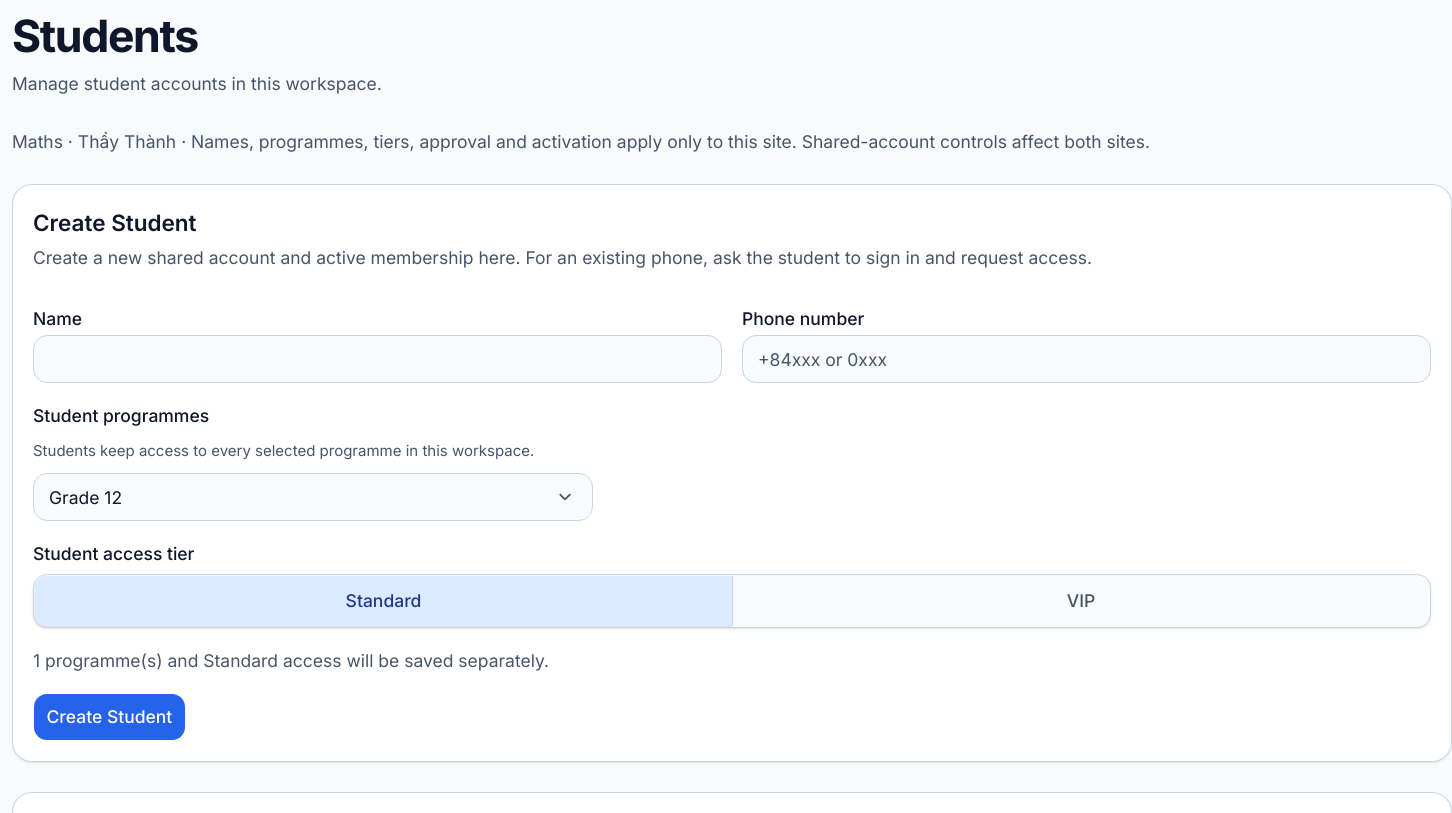
Test case: TeacherStudentsPage › shows validation error for an empty name
This screenshot has width=1452, height=813.
Type "+84111111111" into the field with placeholder "+84xxx or 0xxx".
click(1086, 359); type("+84111111111")  # box [742,335,1431,383]
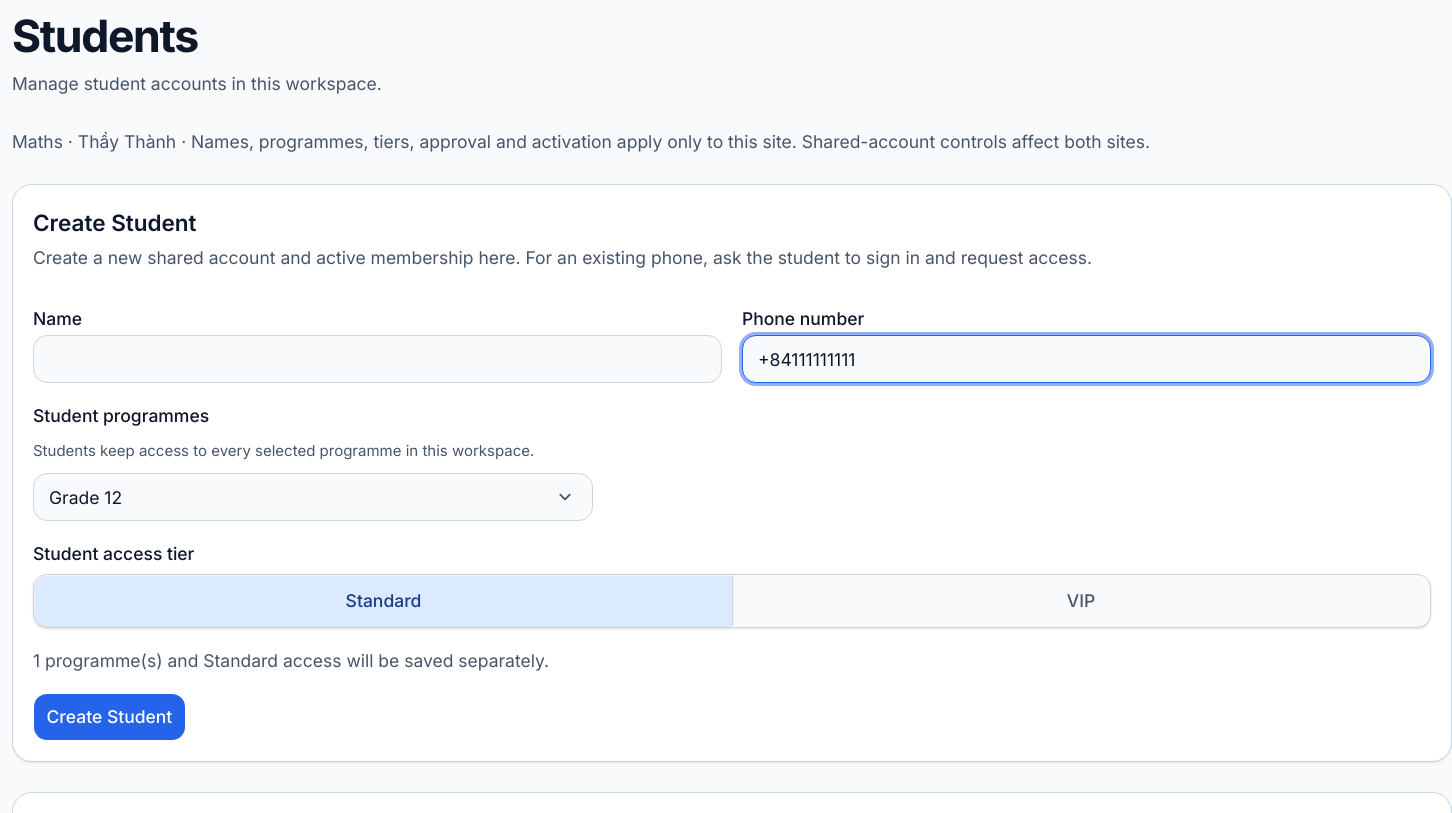
Click the button "Create Student".
click(109, 717)  # box [33,693,186,741]
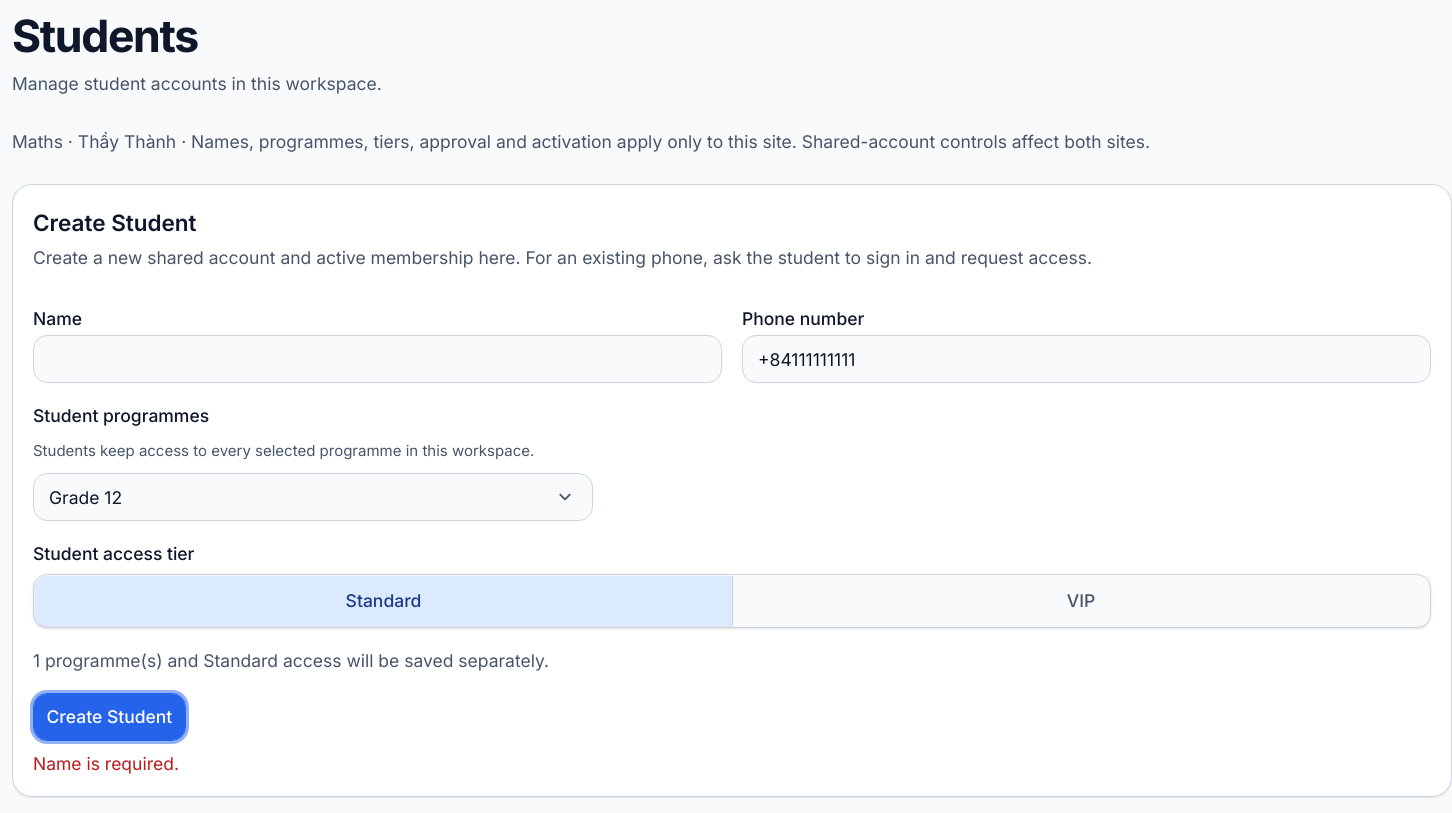
Expected: the text "Name is required." is shown, [33,753,179,774]
